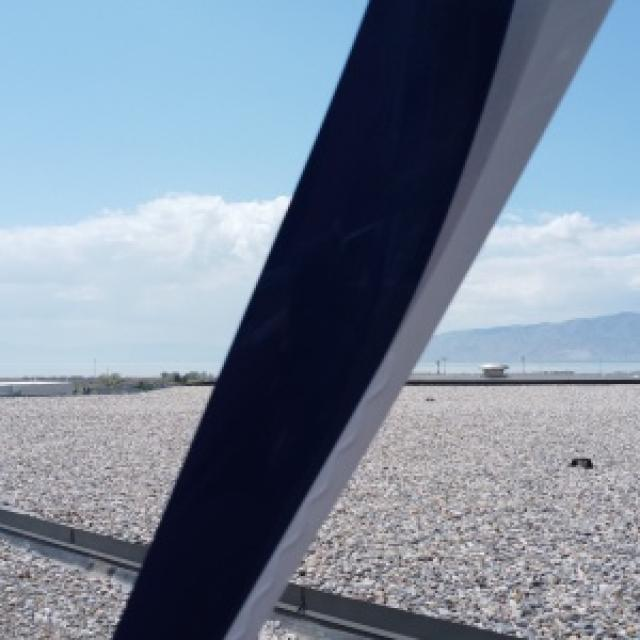healthy: (113, 0, 608, 638)
